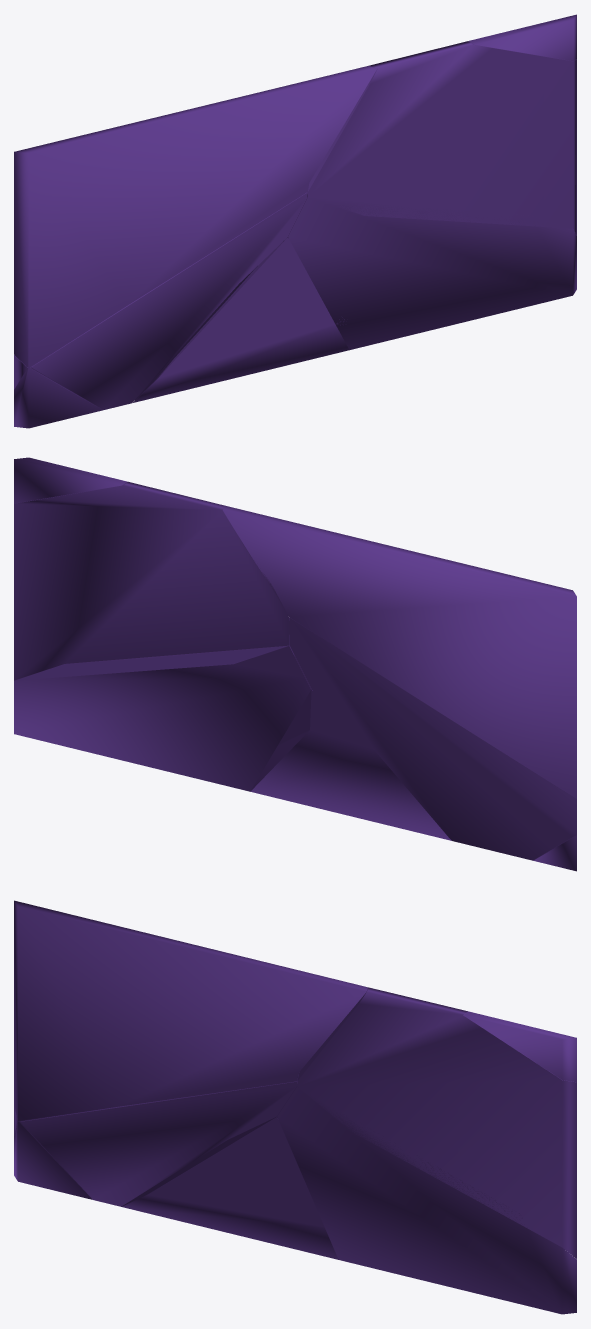
File: cellFracture.fbx
The picture shows the model from 3 angles, top to bottom: view 1: azimuth 30°, elevation 25°; view 2: azimuth 150°, elevation 25°; view 3: azimuth 330°, elevation 25°; orthographic projection.
Parts seen in each view (by area): view 1: backWall_cell.005, backWall_cell.004, backWall_cell.002, backWall_cell.001, backWall_cell, backWall_cell.003, backWall_cell.006; view 2: backWall_cell.005, backWall_cell.004, backWall_cell.002, backWall_cell.001, backWall_cell, backWall_cell.006, backWall_cell.003; view 3: backWall_cell.005, backWall_cell.004, backWall_cell.002, backWall_cell.001, backWall_cell, backWall_cell.006, backWall_cell.003.
Boxes of the visible parts, bbox=[...] form: backWall_cell.005: bbox=[14, 66, 376, 367]; backWall_cell.004: bbox=[307, 41, 576, 235]; backWall_cell.002: bbox=[283, 197, 576, 350]; backWall_cell.001: bbox=[14, 192, 307, 410]; backWall_cell: bbox=[133, 237, 348, 402]; backWall_cell.003: bbox=[14, 367, 102, 428]; backWall_cell.006: bbox=[469, 14, 576, 60]; backWall_cell.005: bbox=[223, 505, 576, 799]; backWall_cell.004: bbox=[14, 481, 289, 680]; backWall_cell.002: bbox=[14, 645, 311, 791]; backWall_cell.001: bbox=[289, 617, 576, 860]; backWall_cell: bbox=[250, 689, 451, 840]; backWall_cell.006: bbox=[14, 457, 126, 503]; backWall_cell.003: bbox=[533, 835, 576, 871]; backWall_cell.005: bbox=[14, 900, 367, 1121]; backWall_cell.004: bbox=[297, 987, 576, 1258]; backWall_cell.002: bbox=[277, 1087, 576, 1314]; backWall_cell.001: bbox=[14, 1072, 299, 1206]; backWall_cell: bbox=[122, 1117, 338, 1259]; backWall_cell.006: bbox=[464, 1011, 576, 1082]; backWall_cell.003: bbox=[14, 1121, 91, 1199].
Size of the model in its own units: 6 by 2.8 by 0.1.
Materials: 1 (1 with a texture image).
